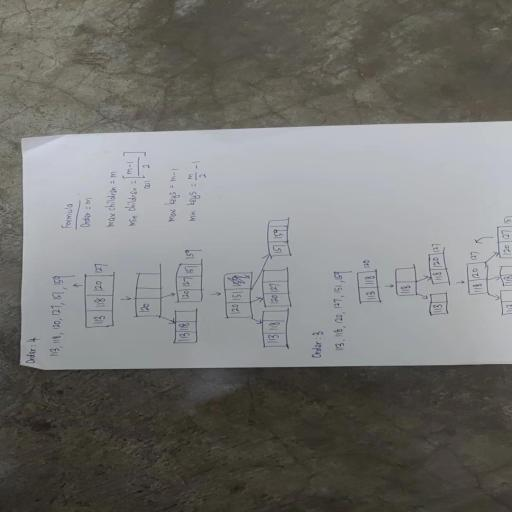paper: (27, 123, 512, 363)
